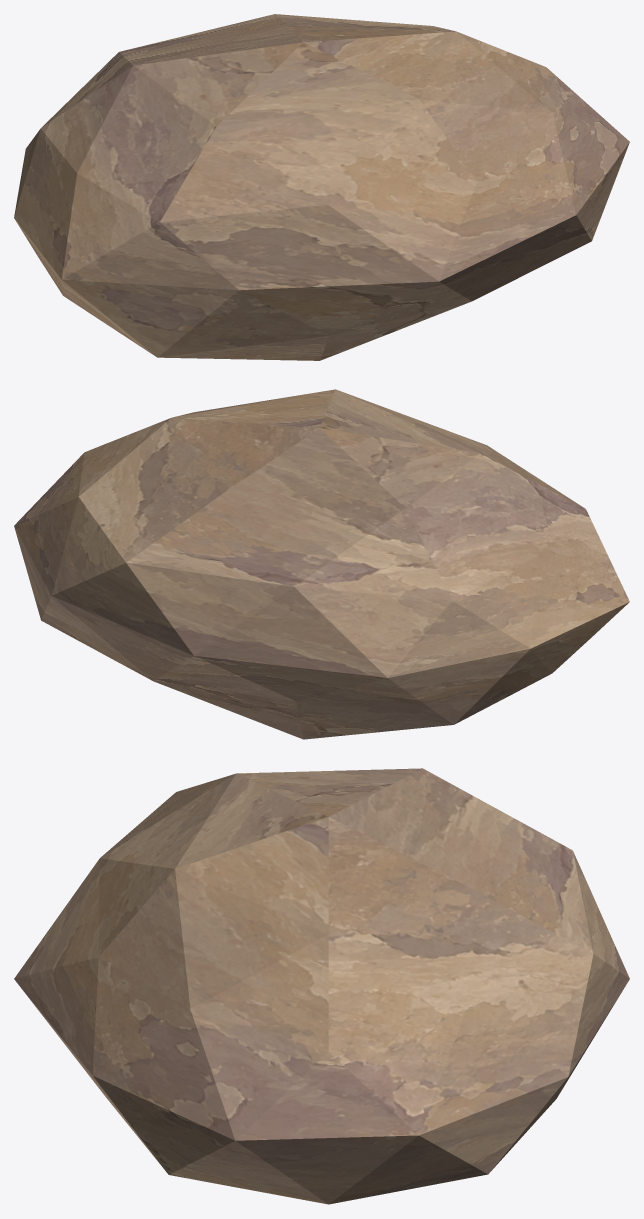
Rendered from SM_WL_NG_PebbleSmall.fbx.
3 renders of one model, top to bottom at view 1: azimuth 30°, elevation 25°; view 2: azimuth 150°, elevation 25°; view 3: azimuth 270°, elevation 25°, orthographic. The views are drawn at different scales.
Visible parts, largest first — view 1: HH_Q2_PebbleSmall; view 2: HH_Q2_PebbleSmall; view 3: HH_Q2_PebbleSmall.
Boxes of the visible parts, left/top/right/bottom form: HH_Q2_PebbleSmall: left=14, top=14, right=629, bottom=360; HH_Q2_PebbleSmall: left=14, top=389, right=629, bottom=739; HH_Q2_PebbleSmall: left=14, top=768, right=629, bottom=1204.
Size of the model in its own units: 0.2554 by 0.3146 by 0.15.
